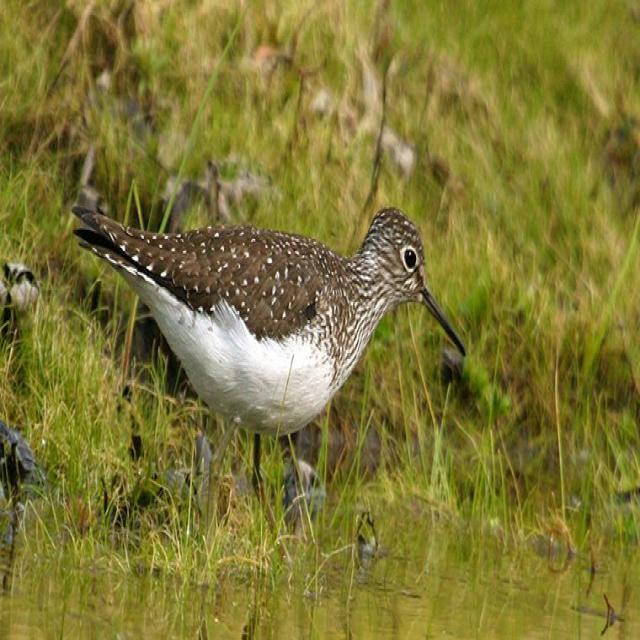Sandpiper: (72, 196, 467, 499)
